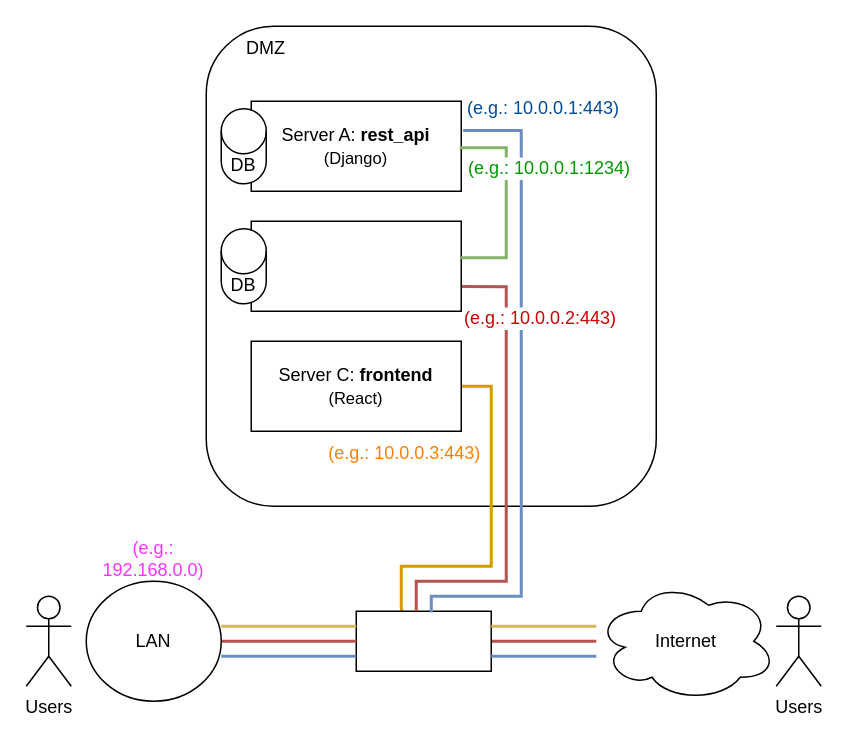
This 848x744 diagram has some shape labels left out. Each missing label, with the centre of its shape:
Router: [423,640]
Server B: storage_api (Django): [355,265]
